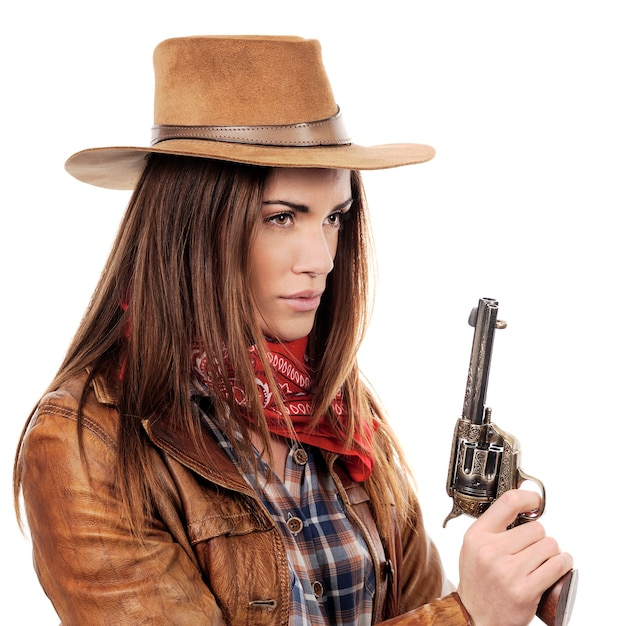gun: (443, 297, 578, 626)
